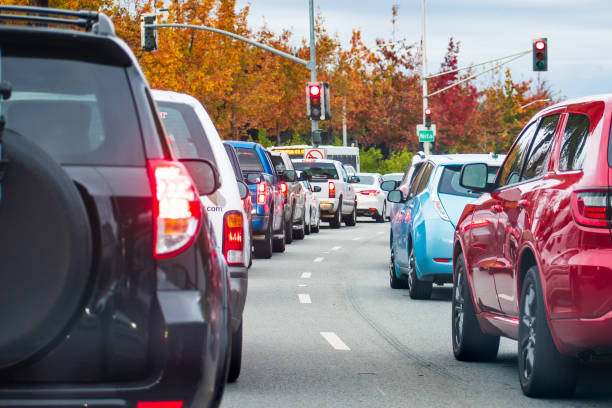car: (1, 36, 215, 408), (455, 99, 612, 400), (158, 90, 247, 310), (391, 155, 503, 288), (224, 140, 286, 255), (291, 156, 355, 227), (350, 174, 393, 223)
